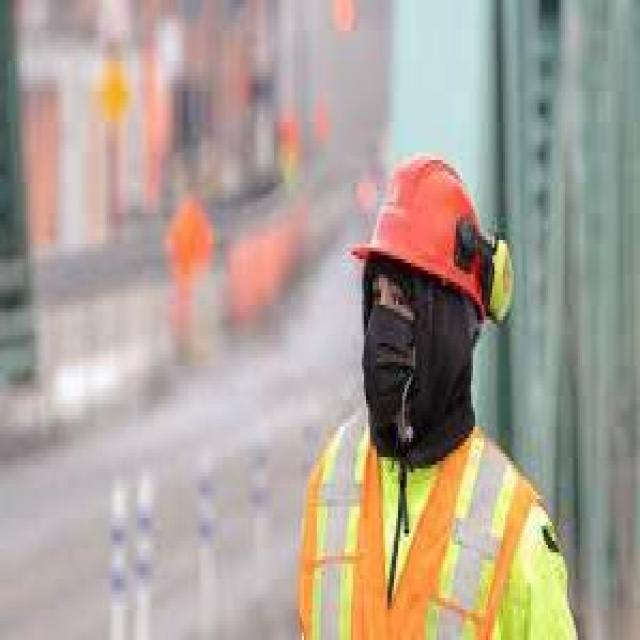Reflective-Jacket: (291, 411, 587, 640)
Safety-Helmet: (340, 145, 522, 335)
